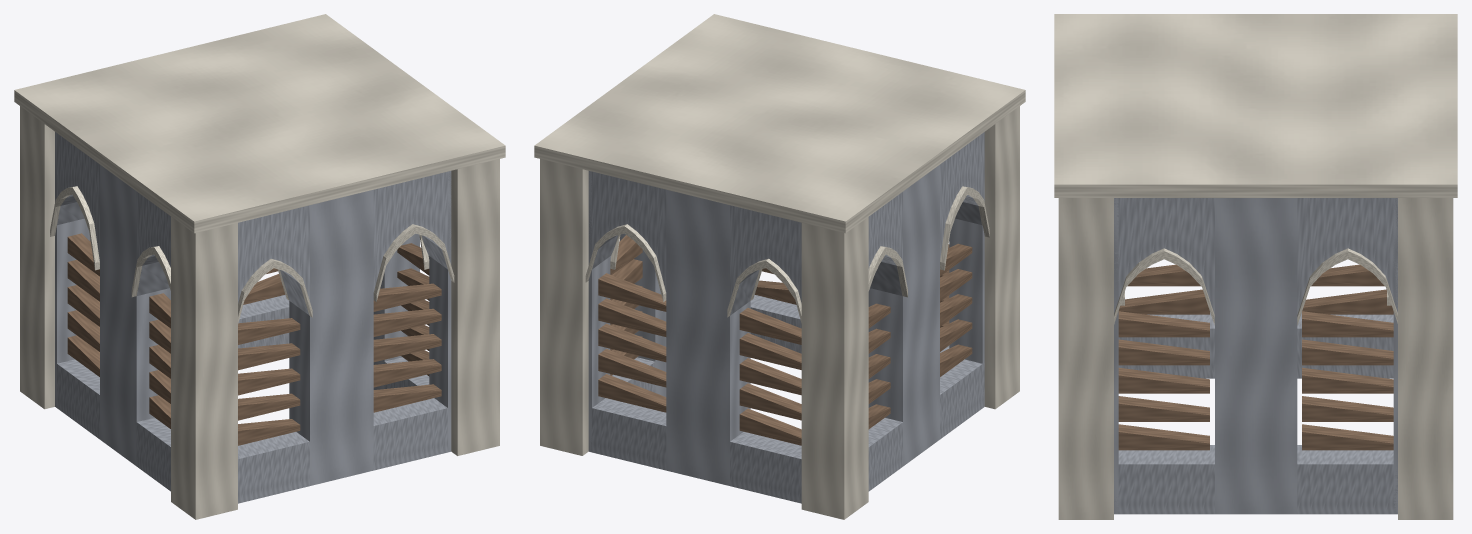
File: vampire-crypt-and-gothic-cathedral-bell-tower-stage-9f11a619__22947.glb
The picture shows the model from 3 angles, left to right: view 1: azimuth 30°, elevation 25°; view 2: azimuth 150°, elevation 25°; view 3: azimuth 270°, elevation 25°; orthographic projection. The views are drawn at different scales.
Visible parts, largest first — view 1: bell-tower-stage; view 2: bell-tower-stage; view 3: bell-tower-stage.
Part boxes in pixels (<box>): bell-tower-stage: <box>14,14,505,519</box>; bell-tower-stage: <box>534,14,1025,519</box>; bell-tower-stage: <box>1054,14,1457,519</box>.
Bounding box in the file's own units: 4.4 × 4.06 × 4.4.
3 materials, 3 textured.
